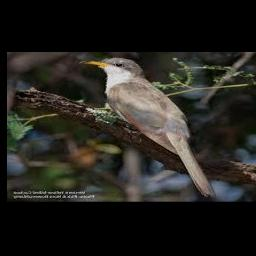Cuckoo: (80, 58, 216, 197)
